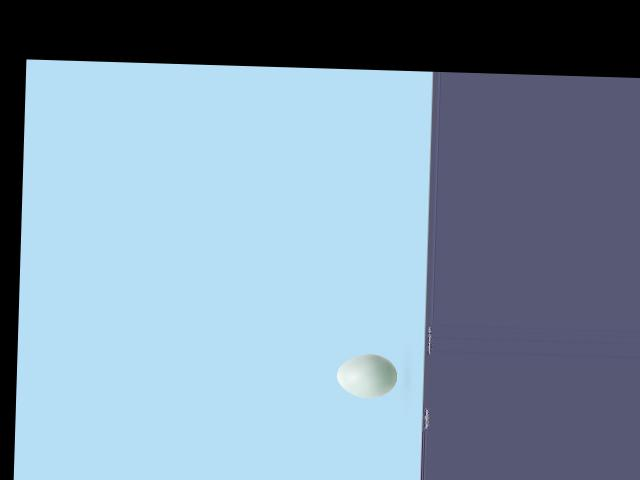egg: (336, 352, 397, 398)
